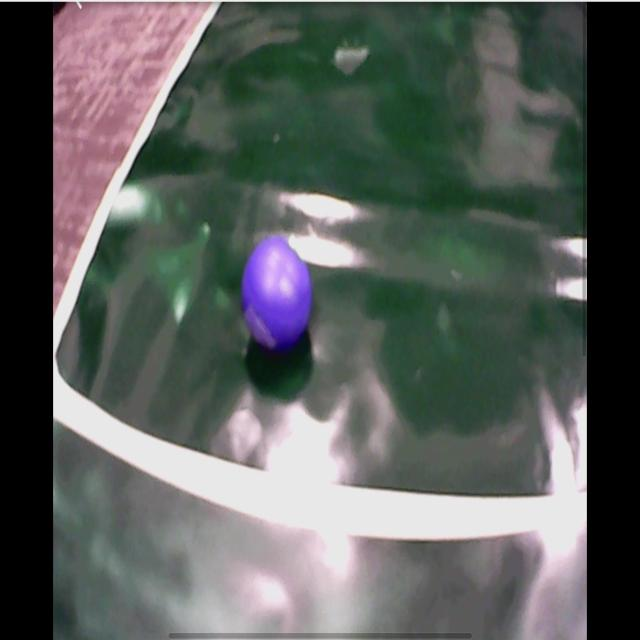ball: (241, 237, 314, 349)
